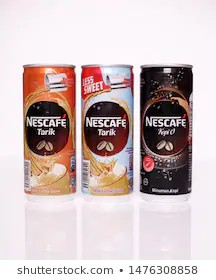nescafe-can: (138, 57, 195, 199), (80, 61, 134, 201), (23, 62, 78, 197)
